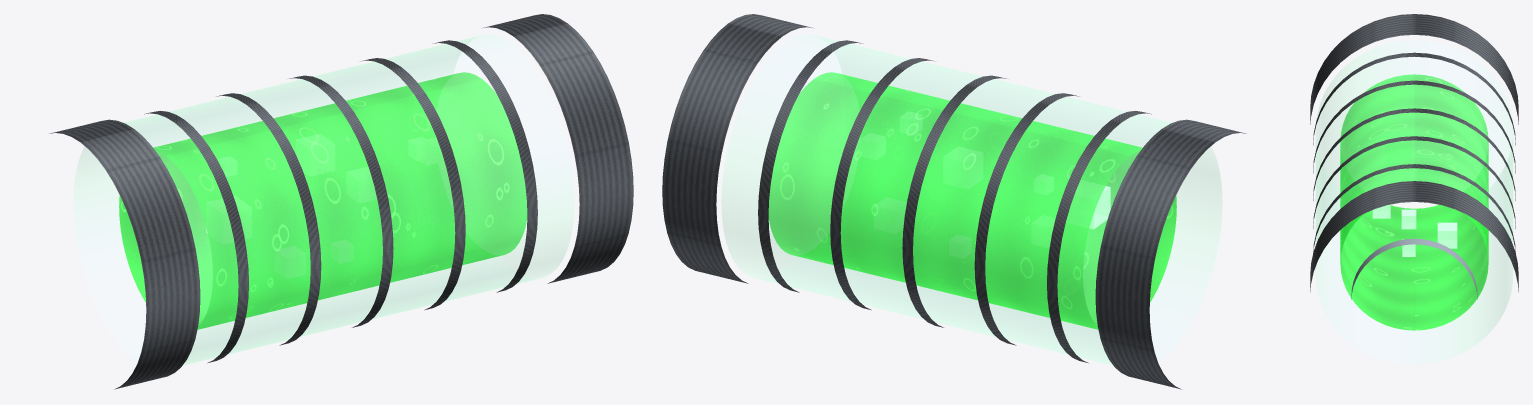
File: bio_gel_energy_cell.glb
3 views of the same model, side by side, from view 1: azimuth 30°, elevation 25°; view 2: azimuth 150°, elevation 25°; view 3: azimuth 270°, elevation 25° (orthographic). The views are drawn at different scales.
Visible parts, largest first — view 1: Transparent capsule shell, Green gel core, Front alloy cap, Rear alloy cap, Containment band (×5); view 2: Transparent capsule shell, Green gel core, Front alloy cap, Rear alloy cap, Containment band (×5), Animated gel bubble 1; view 3: Transparent capsule shell, Green gel core, Containment band (×5), Front alloy cap, Rear alloy cap, Cap central inset, Animated gel bubble 4, Animated gel bubble 5, Animated gel bubble 2.
Boxes of the visible parts, x1,y1,x2,y2 form: Transparent capsule shell: (74, 35, 573, 365); Green gel core: (119, 72, 527, 329); Front alloy cap: (483, 14, 633, 283); Rear alloy cap: (50, 119, 200, 389); Containment band (×5): (144, 40, 537, 363); Transparent capsule shell: (722, 35, 1221, 365); Green gel core: (768, 72, 1176, 329); Front alloy cap: (662, 14, 812, 283); Rear alloy cap: (1095, 119, 1245, 389); Containment band (×5): (758, 40, 1151, 363); Animated gel bubble 1: (1089, 186, 1110, 229); Transparent capsule shell: (1316, 40, 1512, 364); Green gel core: (1340, 74, 1488, 330); Containment band (×5): (1313, 52, 1515, 253); Front alloy cap: (1310, 181, 1518, 291); Rear alloy cap: (1310, 14, 1518, 124); Cap central inset: (1351, 238, 1477, 299); Animated gel bubble 4: (1437, 222, 1457, 248); Animated gel bubble 5: (1401, 209, 1416, 229); Animated gel bubble 2: (1372, 204, 1390, 218).
Size of the model in its own units: 1.67 by 0.76 by 0.76.
5 materials, 2 textured.
